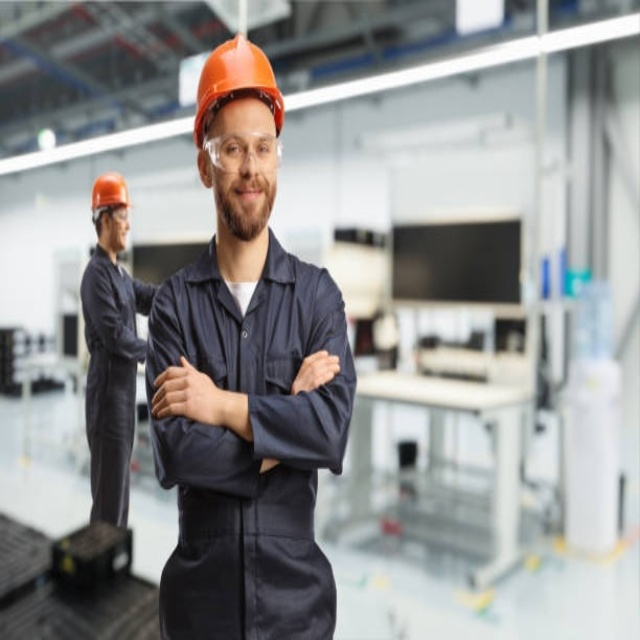Gafas: (203, 132, 284, 176)
Sin_guantes: (149, 355, 206, 422), (292, 349, 340, 396)
Sin_mascara: (229, 184, 265, 223)
